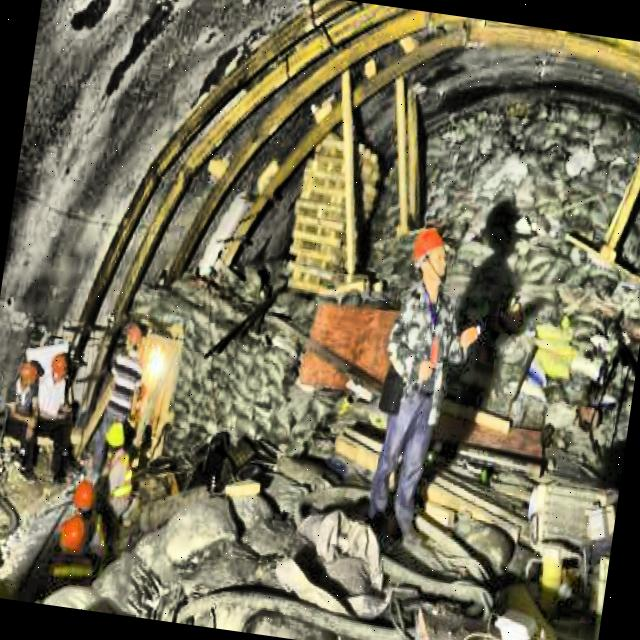helmet: (404, 218, 454, 290), (51, 513, 90, 558), (46, 345, 78, 389), (67, 472, 100, 514), (12, 354, 44, 396), (103, 416, 129, 462), (120, 318, 148, 351)
